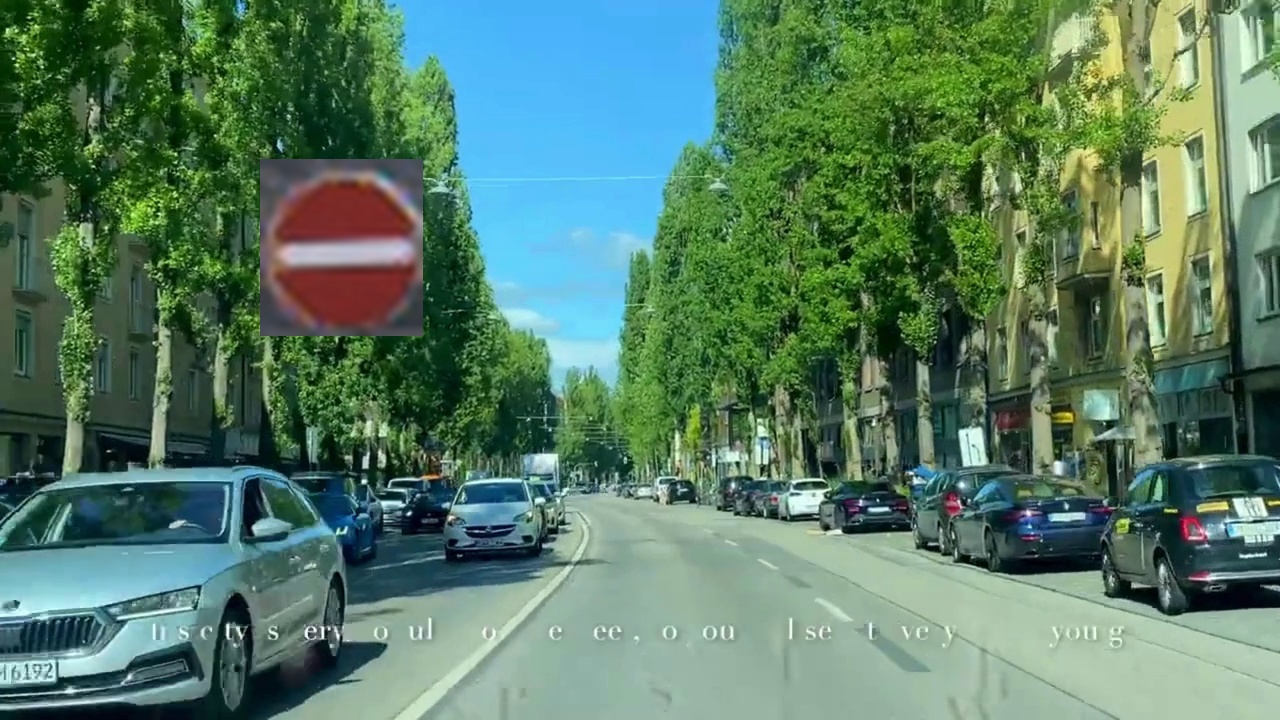No entry: (260, 159, 423, 336)
